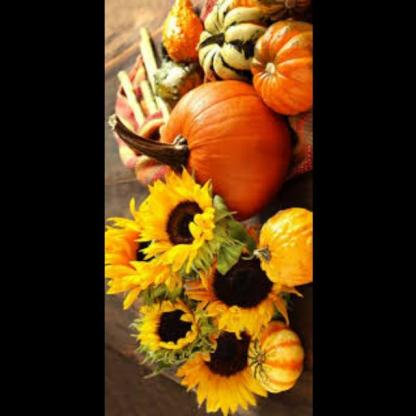pumpkin: (131, 76, 282, 218), (242, 16, 312, 114), (188, 0, 269, 84), (250, 201, 311, 285), (245, 313, 301, 396)
